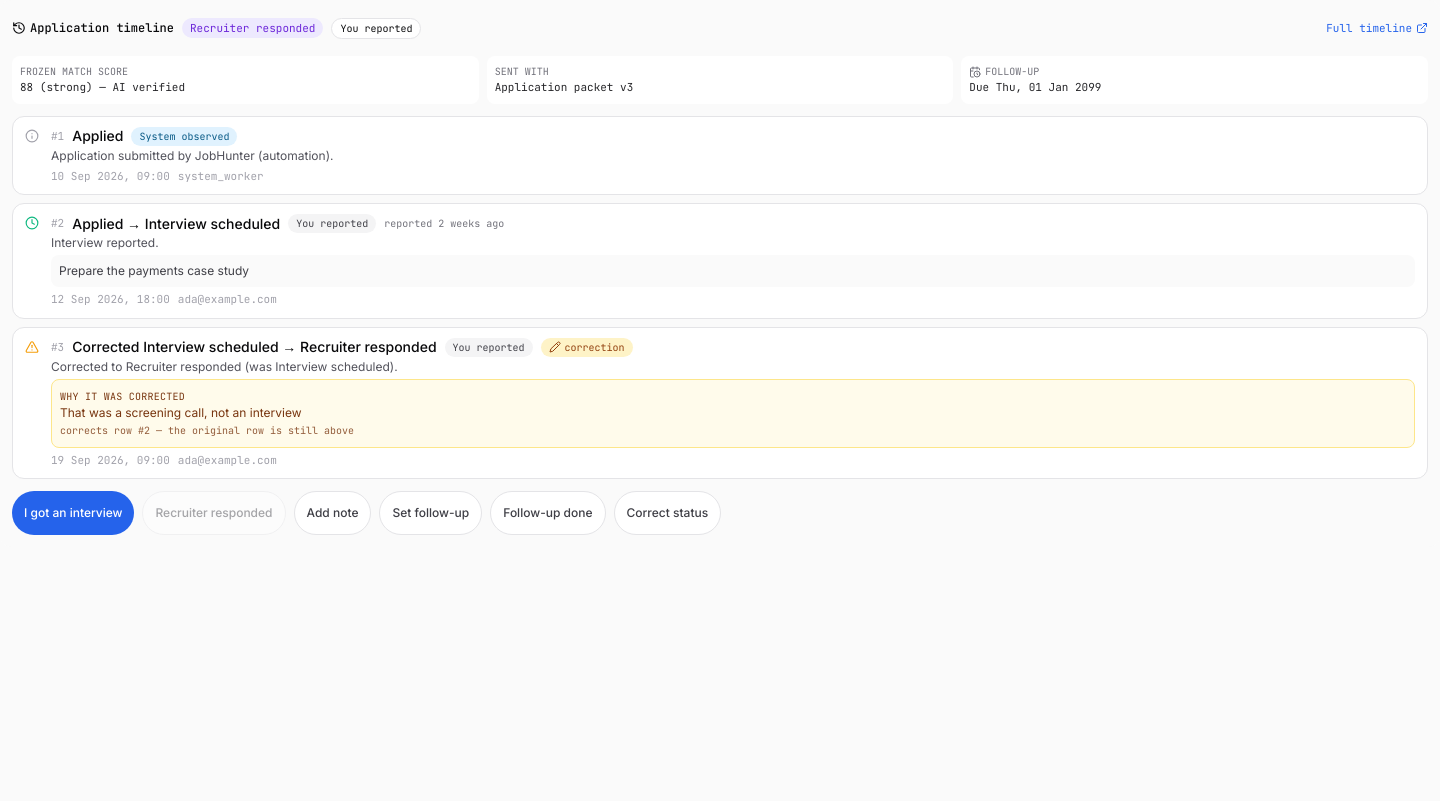
Test: TrackingPanel (the Jobs drawer) › records an interview the user typed, and renders the answer it got back
The width and height of the screenshot is (1440, 801).
Click the button with test id "action-interview" at (73, 513), box [12,491,134,535]
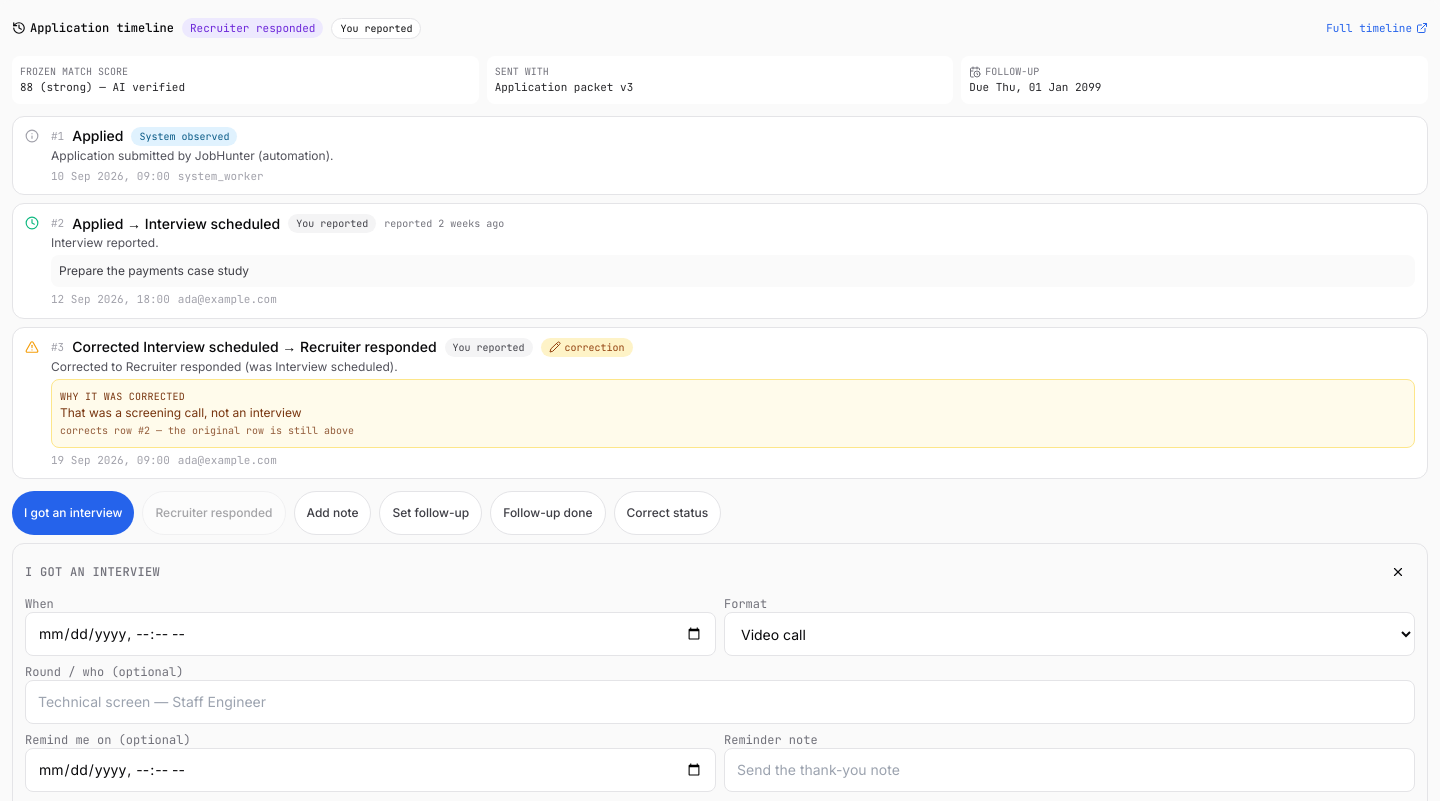
Type "2026-09-25T14:00" into the field with test id "interview-at" at (370, 634), box [25,612,716,656]
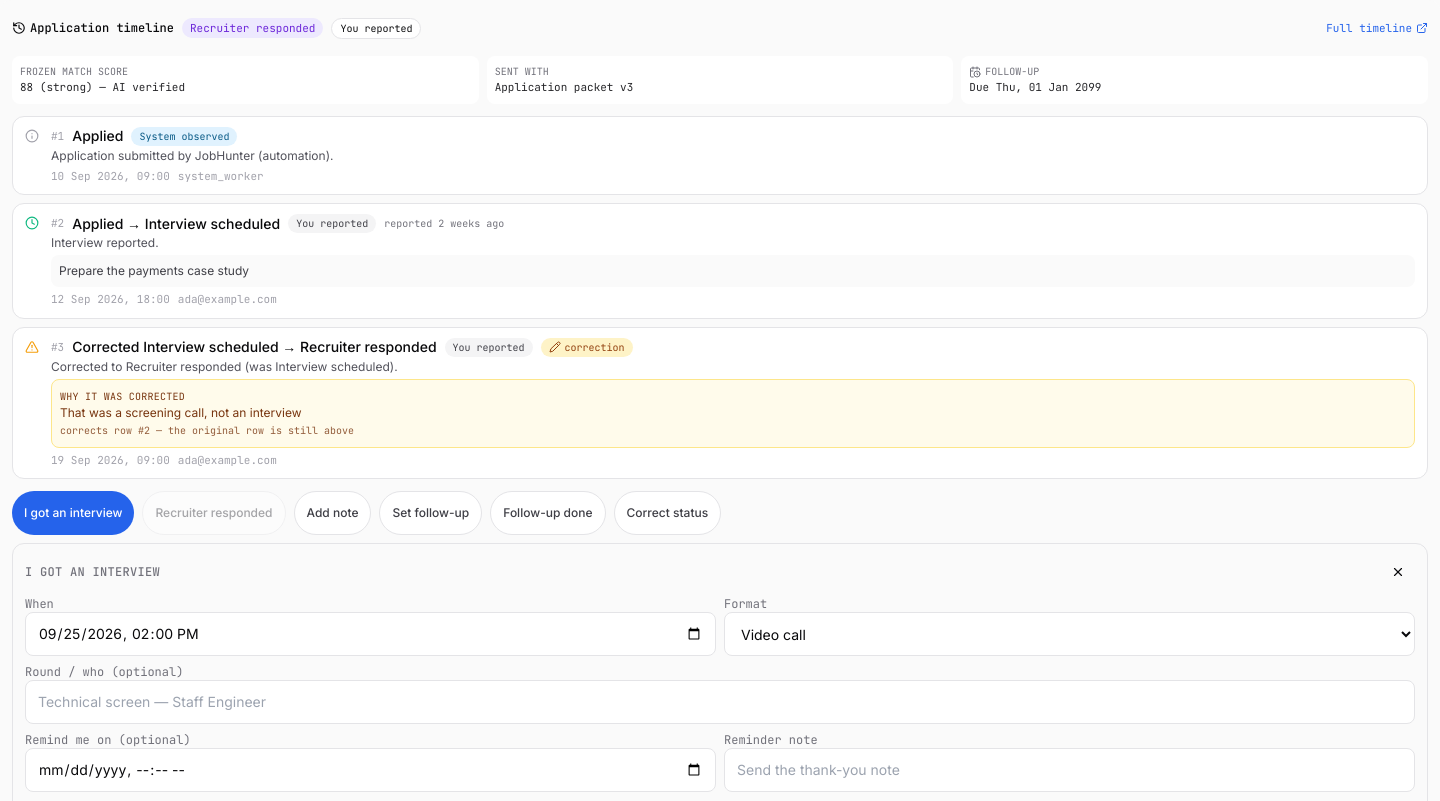
Type "2026-09-28T09:00" into the field with test id "follow-up-at" at (370, 770), box [25,748,716,792]
(page scrolled)
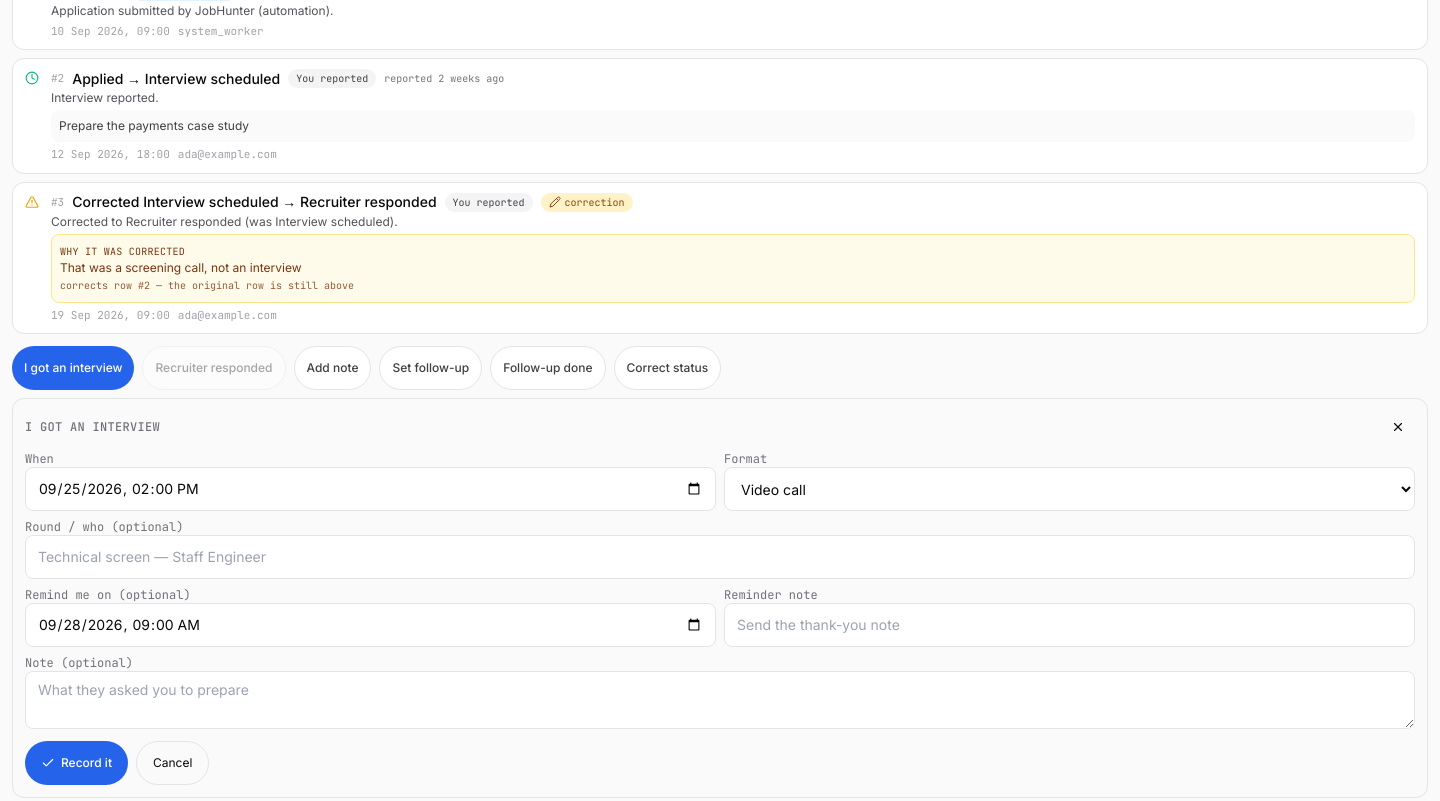
Click the button with test id "form-submit" at (76, 763), box [25,741,128,785]
(page scrolled)
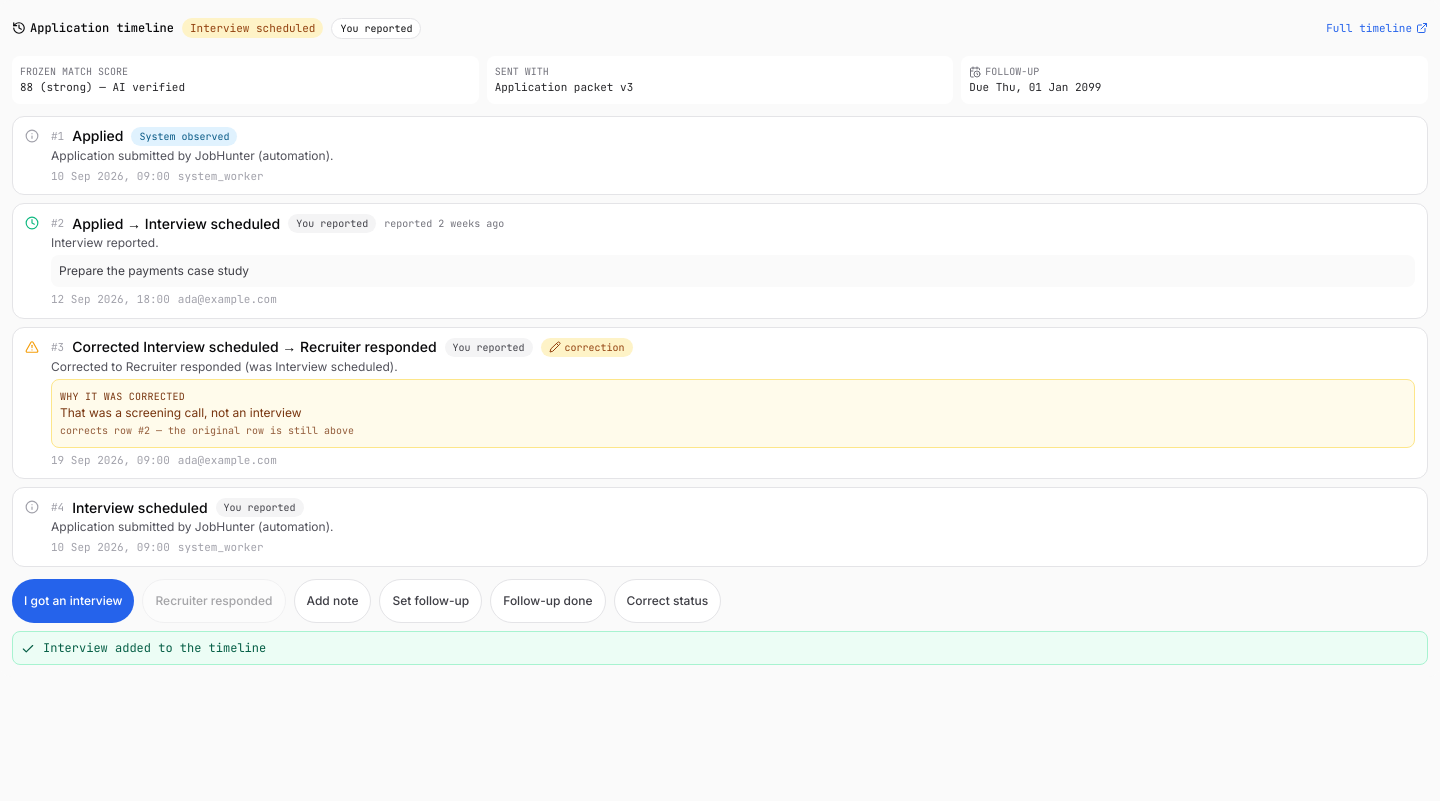
Check: the text with test id "tracking-state" reads "Interview scheduled", box [190,21,315,35]
